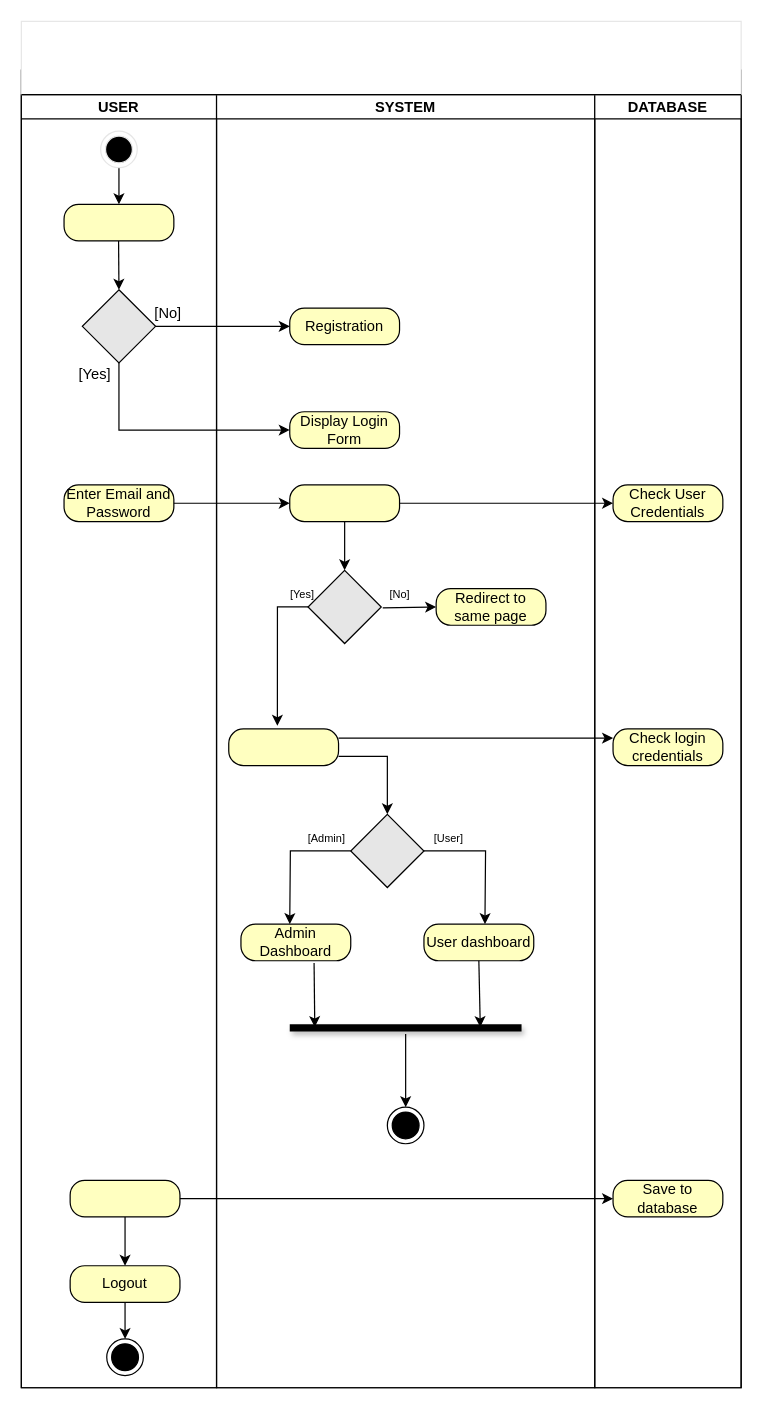
This 764x1409 diagram has some shape labels left out. The shapes that lost their labels are listed below. From the top down, each one's centre as x and y in pixels, then its label:
the point at 118,222: Login
the point at 118,326: Already a user?
the point at 344,503: Check User
the point at 344,606: Login Valid?
the point at 283,747: Check whether admin or user
the point at 124,1198: Use the system
